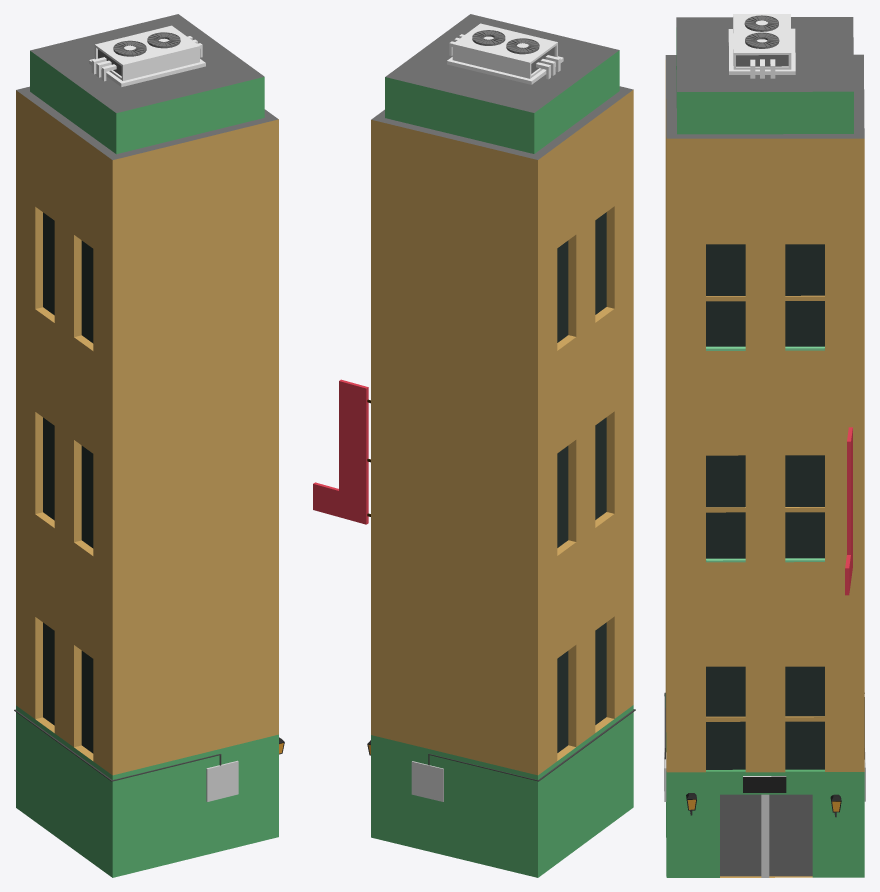
The model's file is Building_11_tran.glb.
3 renders of one model, left to right at view 1: azimuth 30°, elevation 25°; view 2: azimuth 150°, elevation 25°; view 3: azimuth 270°, elevation 25°, orthographic. The views are drawn at different scales.
Visible parts, largest first — view 1: Cube.13059, Cube.13876; view 2: Cube.13059, Cube.13876; view 3: Cube.13059, Cube.13876.
Boxes of the visible parts, <box> form: Cube.13059: <box>14,14,284,877</box>; Cube.13876: <box>89,25,205,86</box>; Cube.13059: <box>313,14,635,877</box>; Cube.13876: <box>447,23,563,84</box>; Cube.13059: <box>664,17,865,877</box>; Cube.13876: <box>728,14,795,78</box>.
Size of the model in its own units: 0.1575 by 0.5033 by 0.1146.
